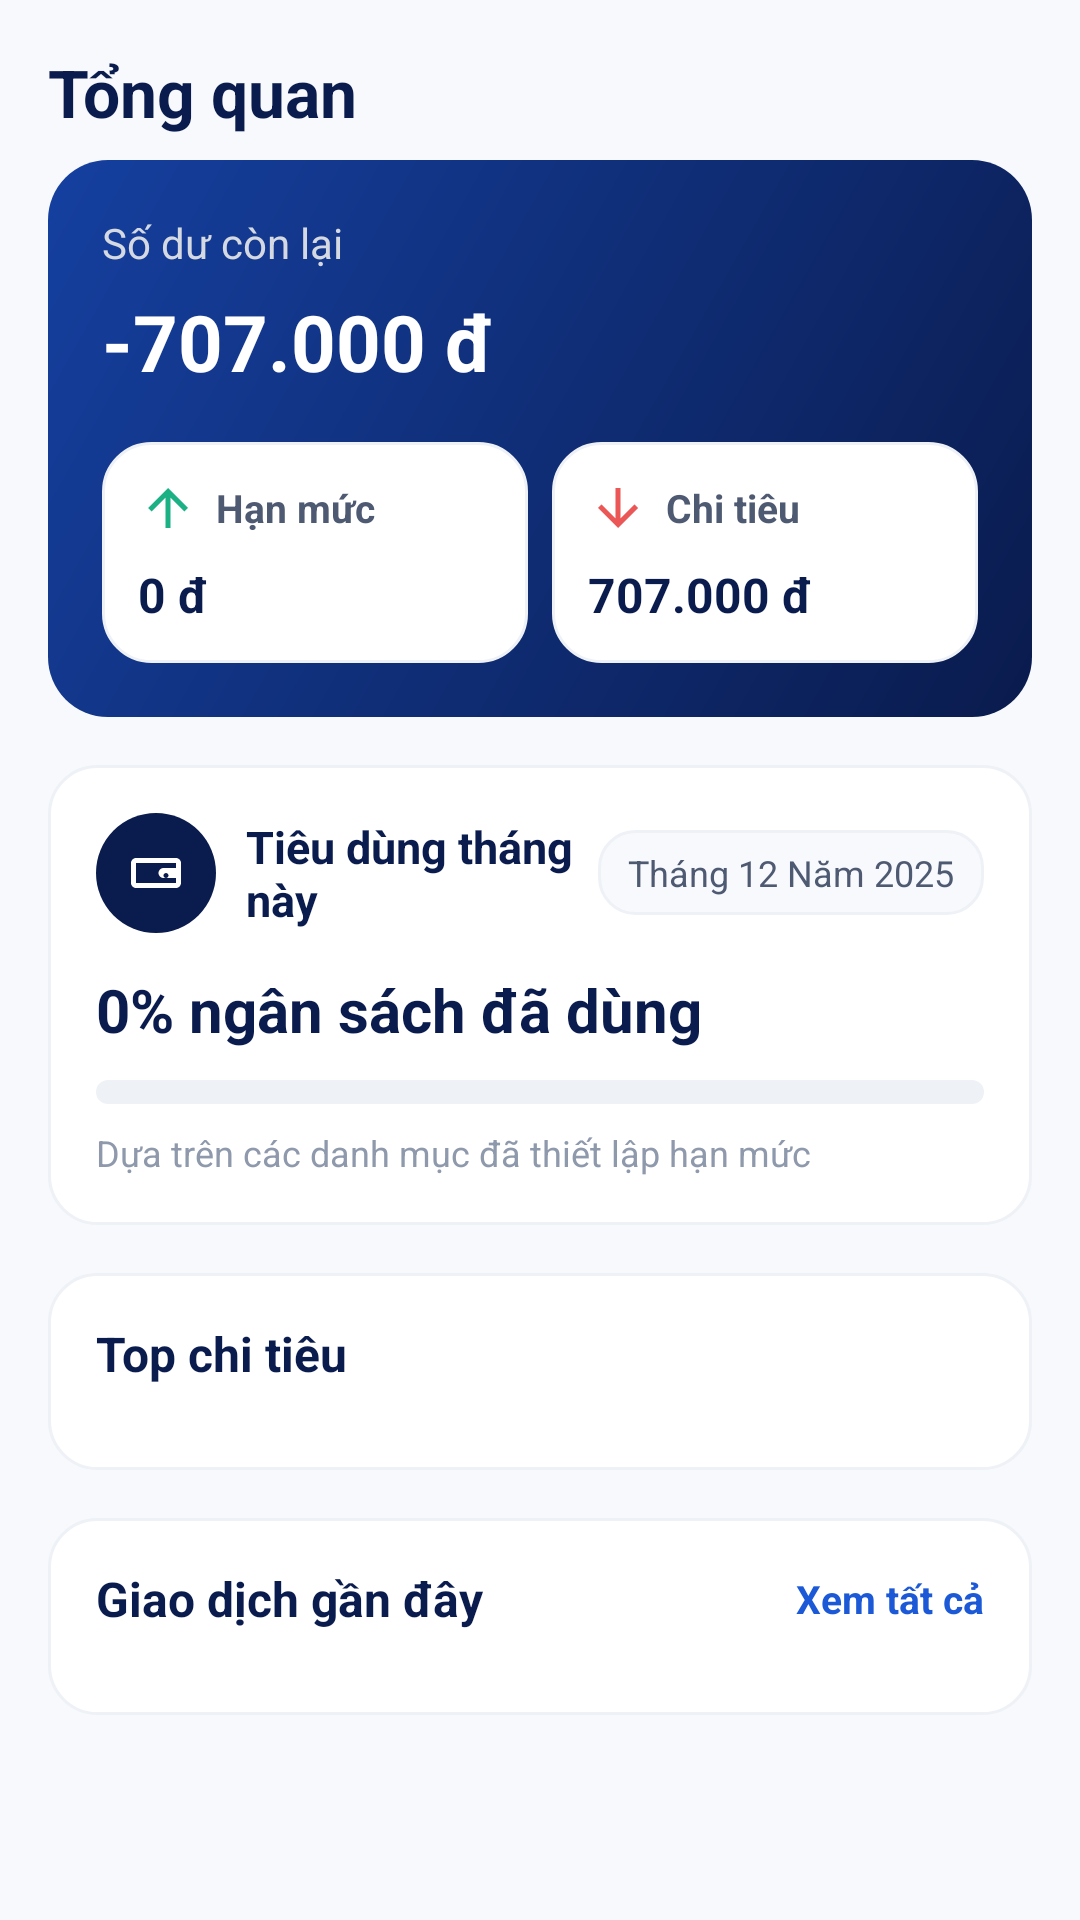

Icons on this 1080 x 1920 Android screen, each with the point to tap as (x,y):
expense: (618,508)
income: (168,508)
wallet: (156,873)
